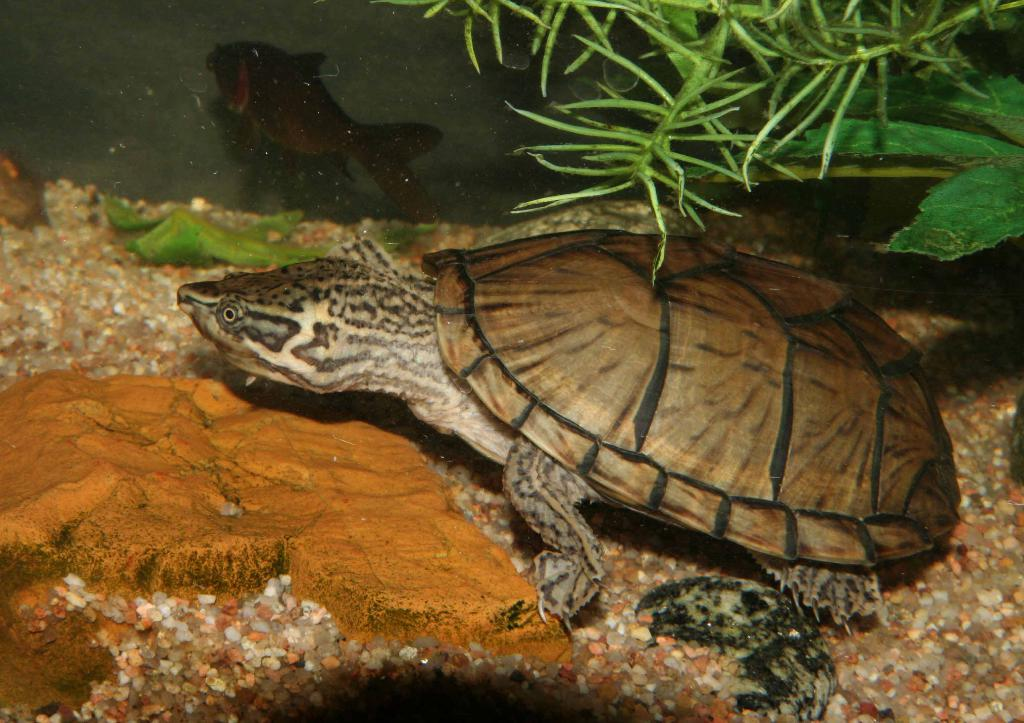Sea turtles: (171, 224, 965, 633)
